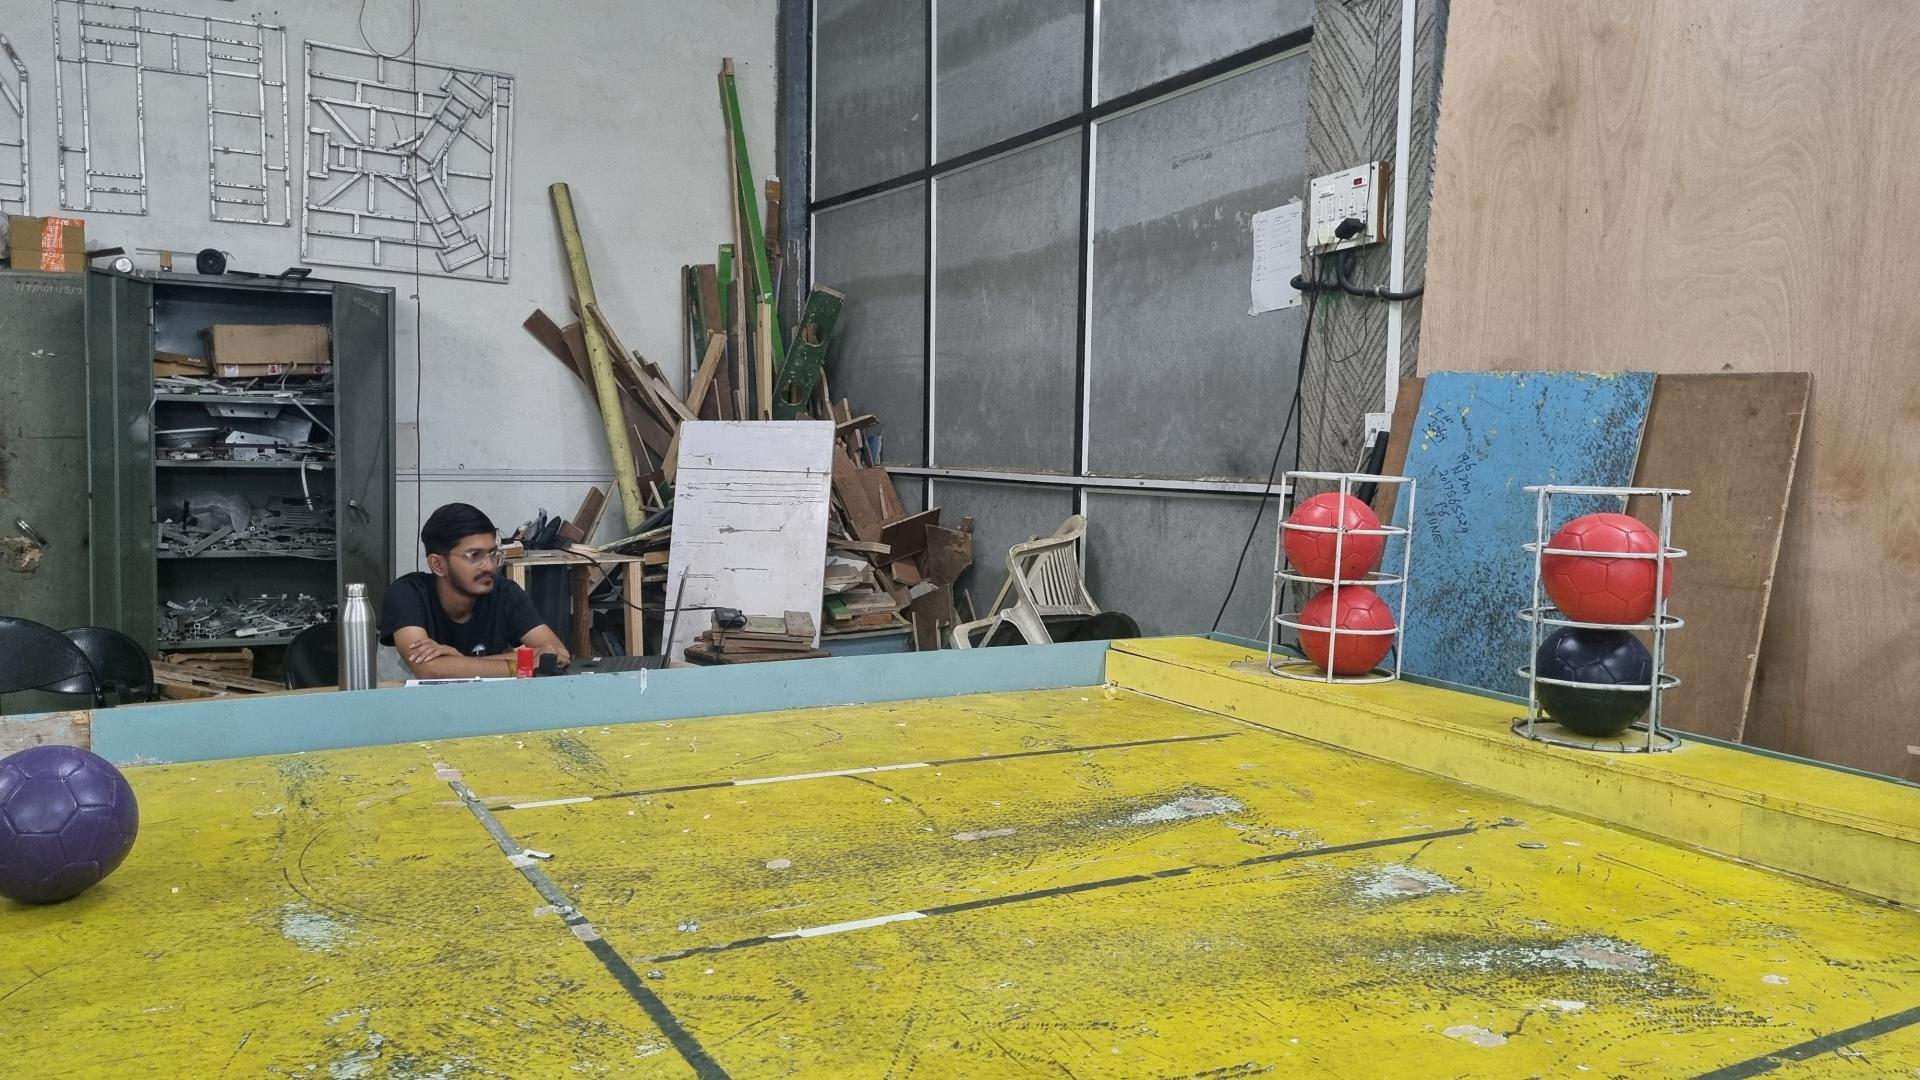dhoka: (1538, 628, 1654, 737)
laale: (1542, 513, 1673, 625), (1284, 491, 1385, 580), (1299, 584, 1396, 674)
